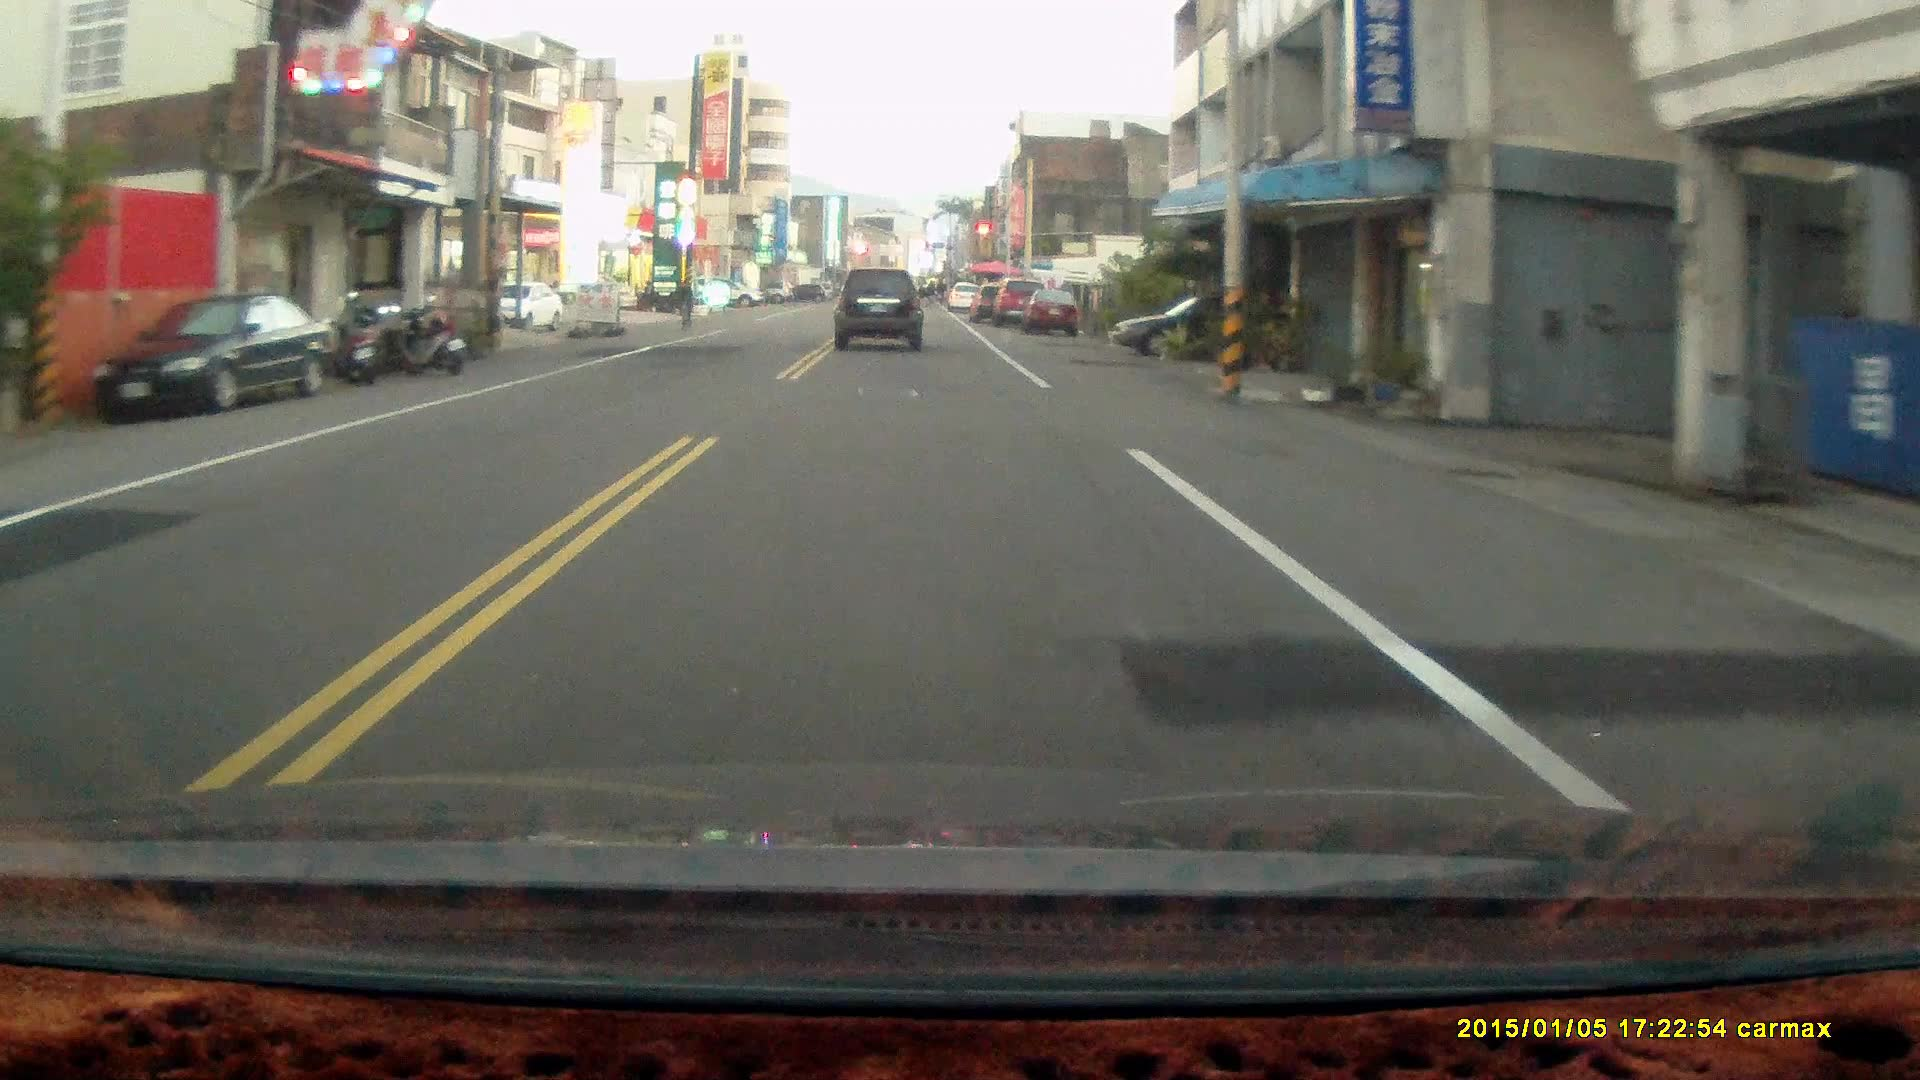rider: (671, 277, 695, 334)
vehicle: (83, 293, 342, 417), (834, 265, 926, 353), (469, 280, 564, 331)
